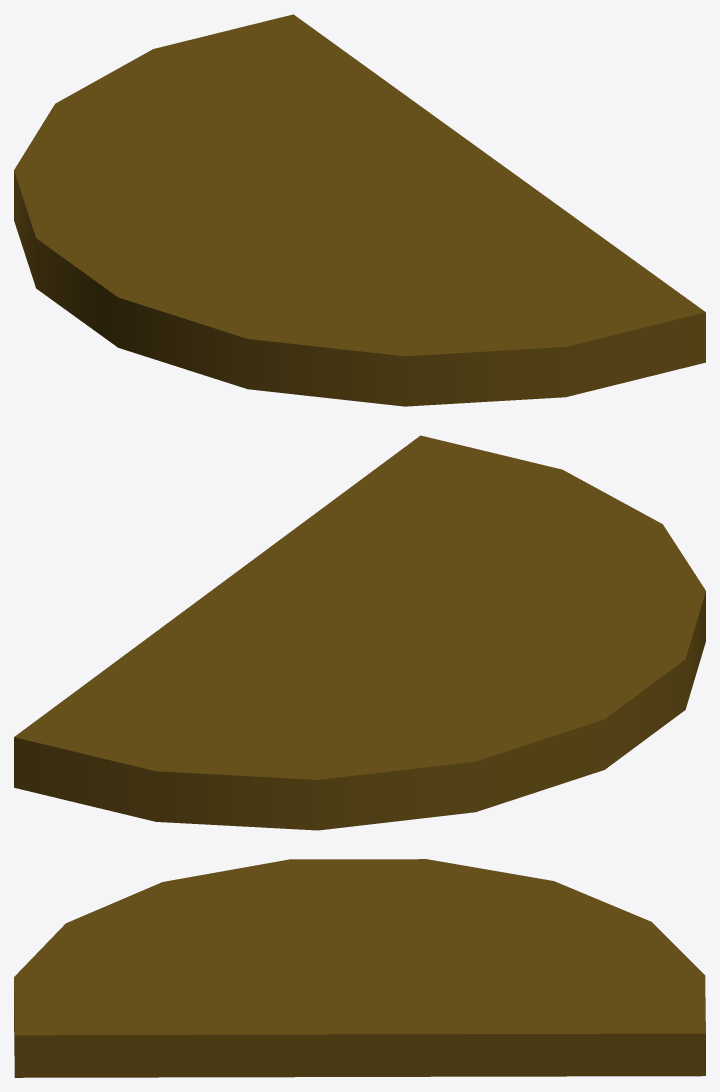
Rendered from chemical table.fbx.
3 renders of one model, top to bottom at view 1: azimuth 30°, elevation 25°; view 2: azimuth 150°, elevation 25°; view 3: azimuth 270°, elevation 25°, orthographic. The views are drawn at different scales.
Parts seen in each view (by area): view 1: chemical_table; view 2: chemical_table; view 3: chemical_table.
Part boxes in pixels (x1,y1,x2,y2): chemical_table: (14, 14, 705, 406); chemical_table: (14, 435, 705, 830); chemical_table: (14, 859, 705, 1077).
Size of the model in its own units: 124 by 13.94 by 205.
